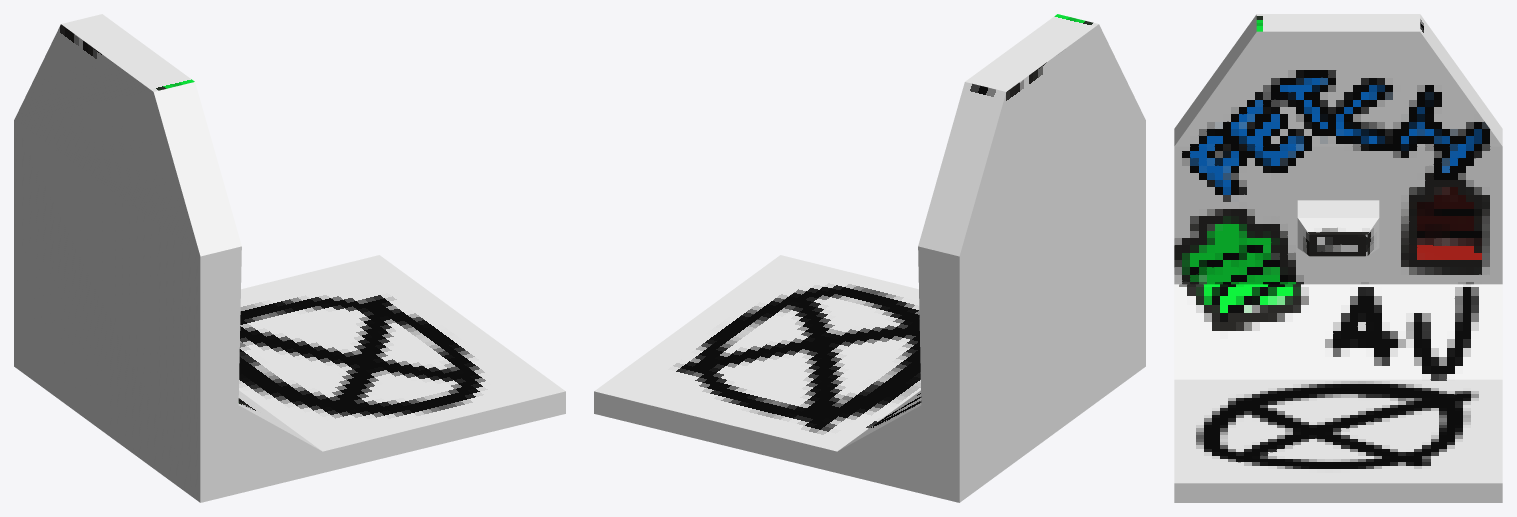
Rendered from FetchCharger.glb.
The picture shows the model from 3 angles, left to right: view 1: azimuth 30°, elevation 25°; view 2: azimuth 150°, elevation 25°; view 3: azimuth 270°, elevation 25°; orthographic projection. The views are drawn at different scales.
Parts seen in each view (by area): view 1: FetchChargerModel; view 2: FetchChargerModel; view 3: FetchChargerModel.
Part boxes in pixels (x1,y1,x2,y2): FetchChargerModel: (14, 14, 565, 502); FetchChargerModel: (594, 14, 1145, 502); FetchChargerModel: (1174, 14, 1502, 502).
Size of the model in its own units: 0.6652 by 0.6555 by 0.5876.
Materials: 1 (1 with a texture image).
